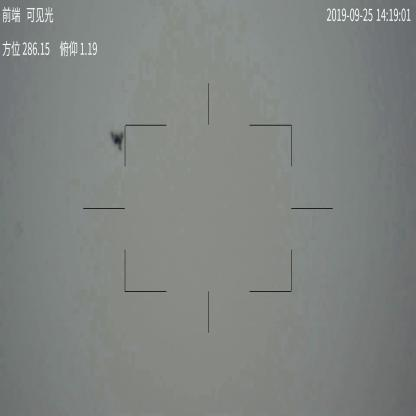uav: (107, 130, 125, 152)
